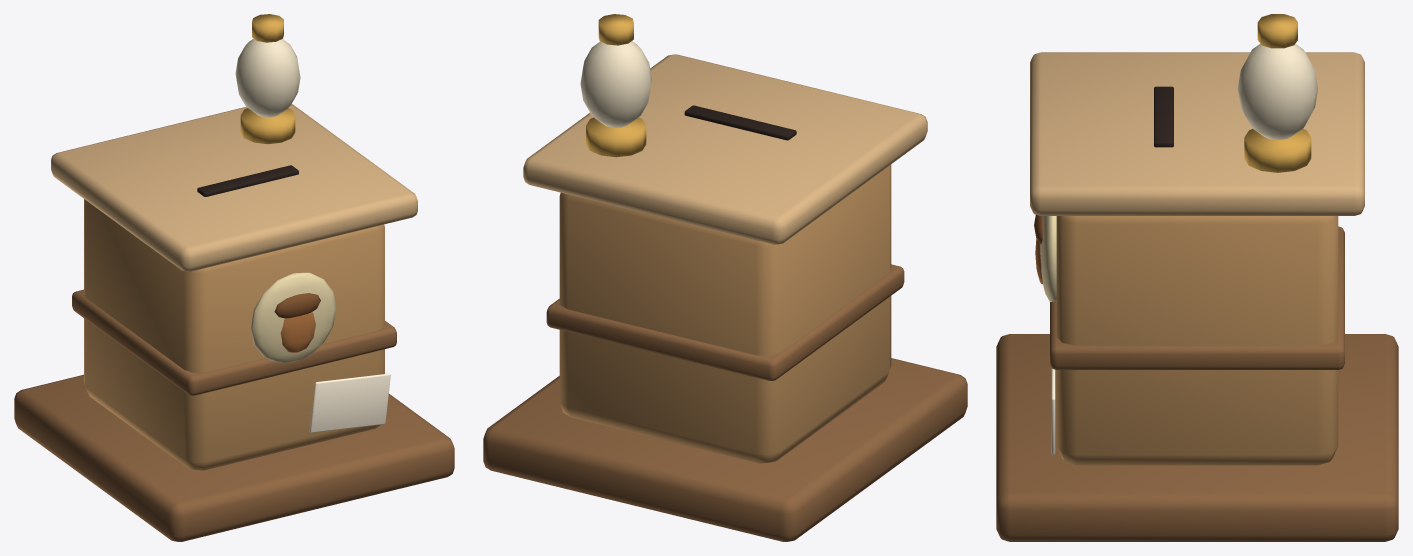
File: honesty-box.glb
3 views of the same model, side by side, from view 1: azimuth 30°, elevation 25°; view 2: azimuth 150°, elevation 25°; view 3: azimuth 270°, elevation 25° (orthographic). The views are drawn at different scales.
Visible parts, largest first — view 1: box, lamp; view 2: box, lamp; view 3: box, lamp.
Part boxes in pixels (x1,y1,x2,y2): box: (14,104,454,541); lamp: (235,14,300,143); box: (483,54,967,541); lamp: (580,14,651,157); box: (996,52,1398,541); lamp: (1237,14,1317,172).
Size of the model in its own units: 0.6 by 0.79 by 0.6.
